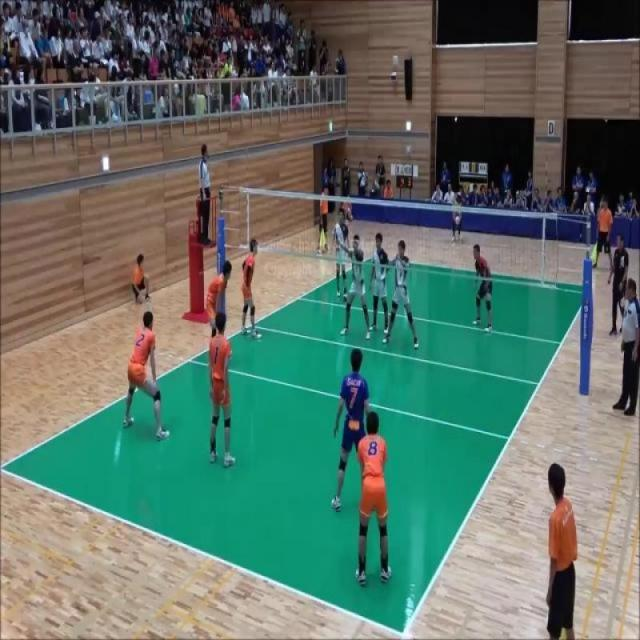volleyball: (455, 215, 460, 225)
